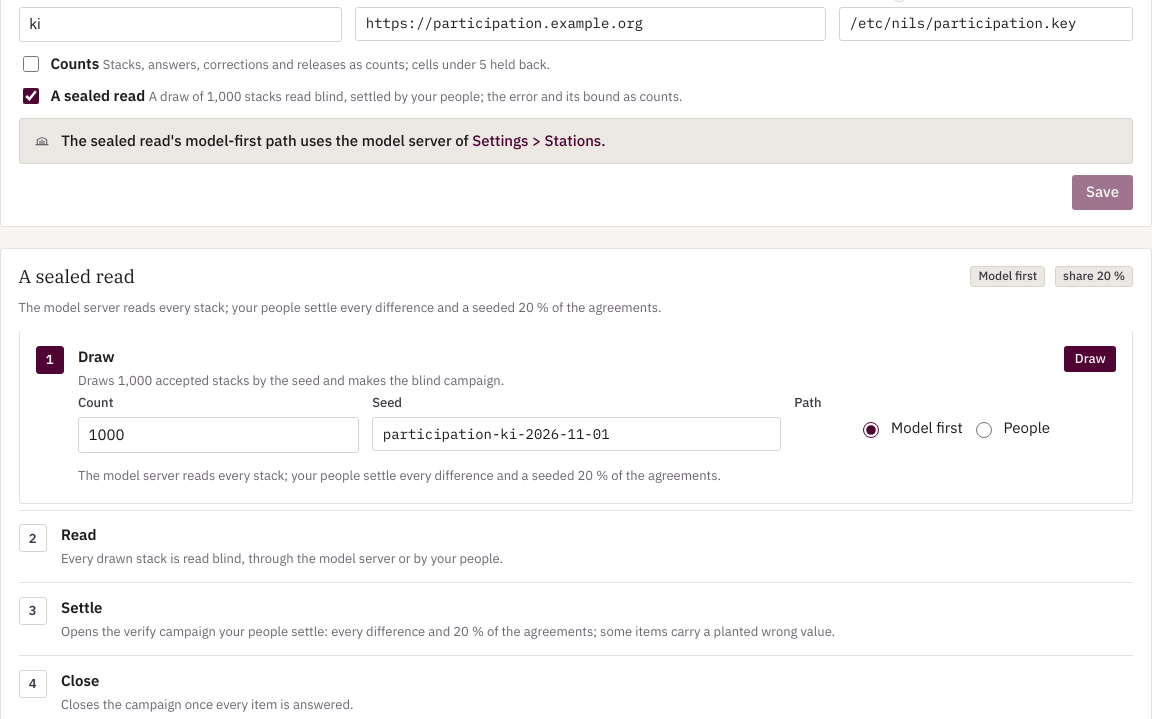
Test case: the sealed read › draws by count with no localizers and the rater named, then offers the rater's run and nothing after it
(page scrolled)
Click the button "Draw" at (1090, 359), box [1064,346,1116,372]
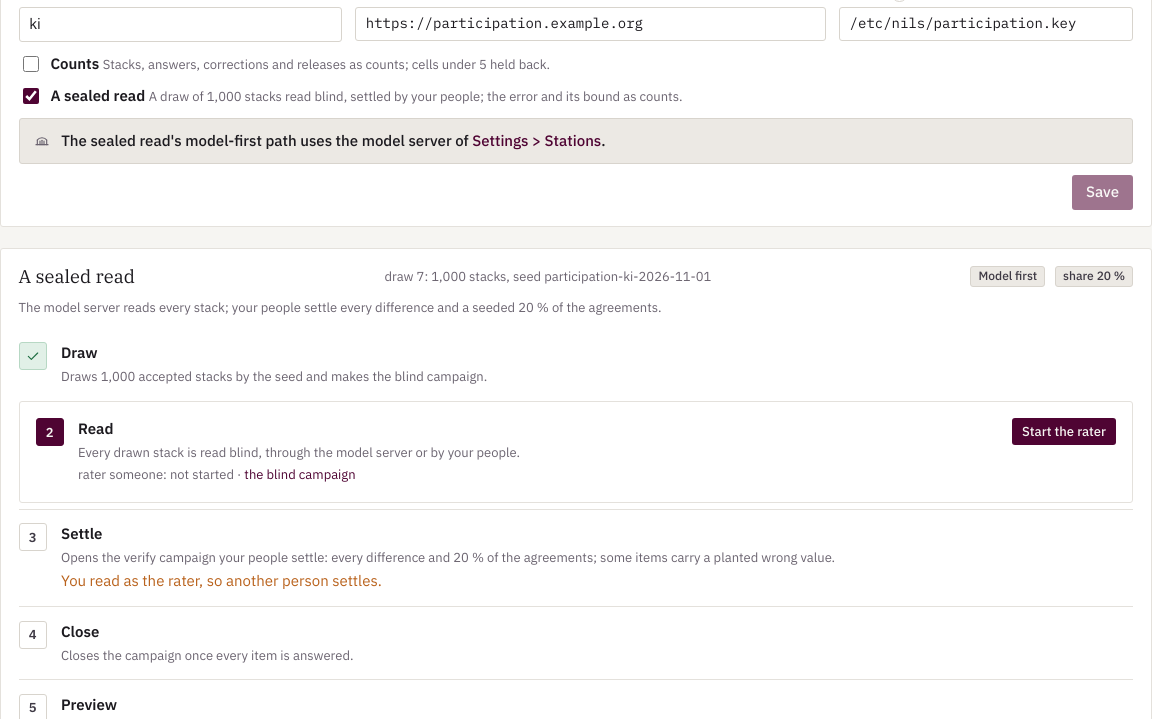
Now the link with id "review" reads "the blind campaign", box [244,466,356,483]
Click the button "Start the rater" at (1064, 432), box [1012,418,1116,445]
(page scrolled)
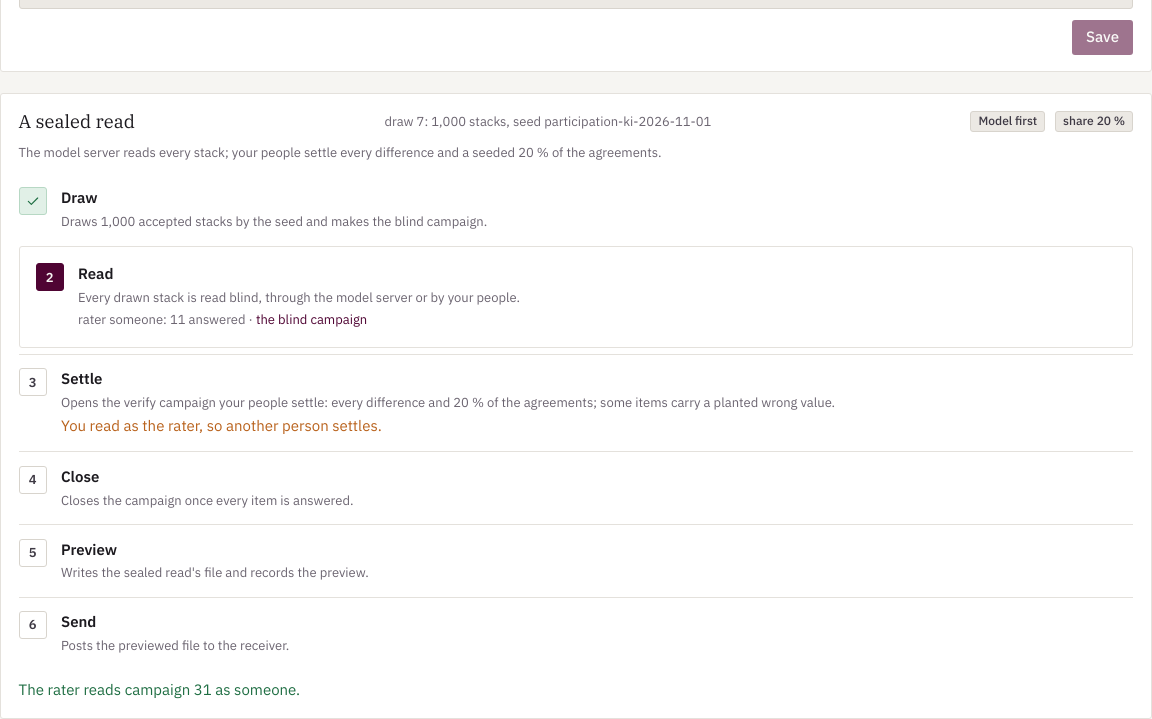
Now the button "Start the rater" is gone
